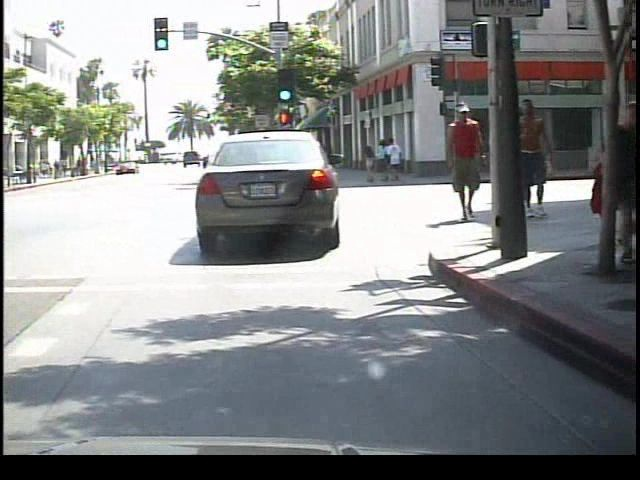person: (503, 96, 558, 225), (439, 101, 484, 223)
